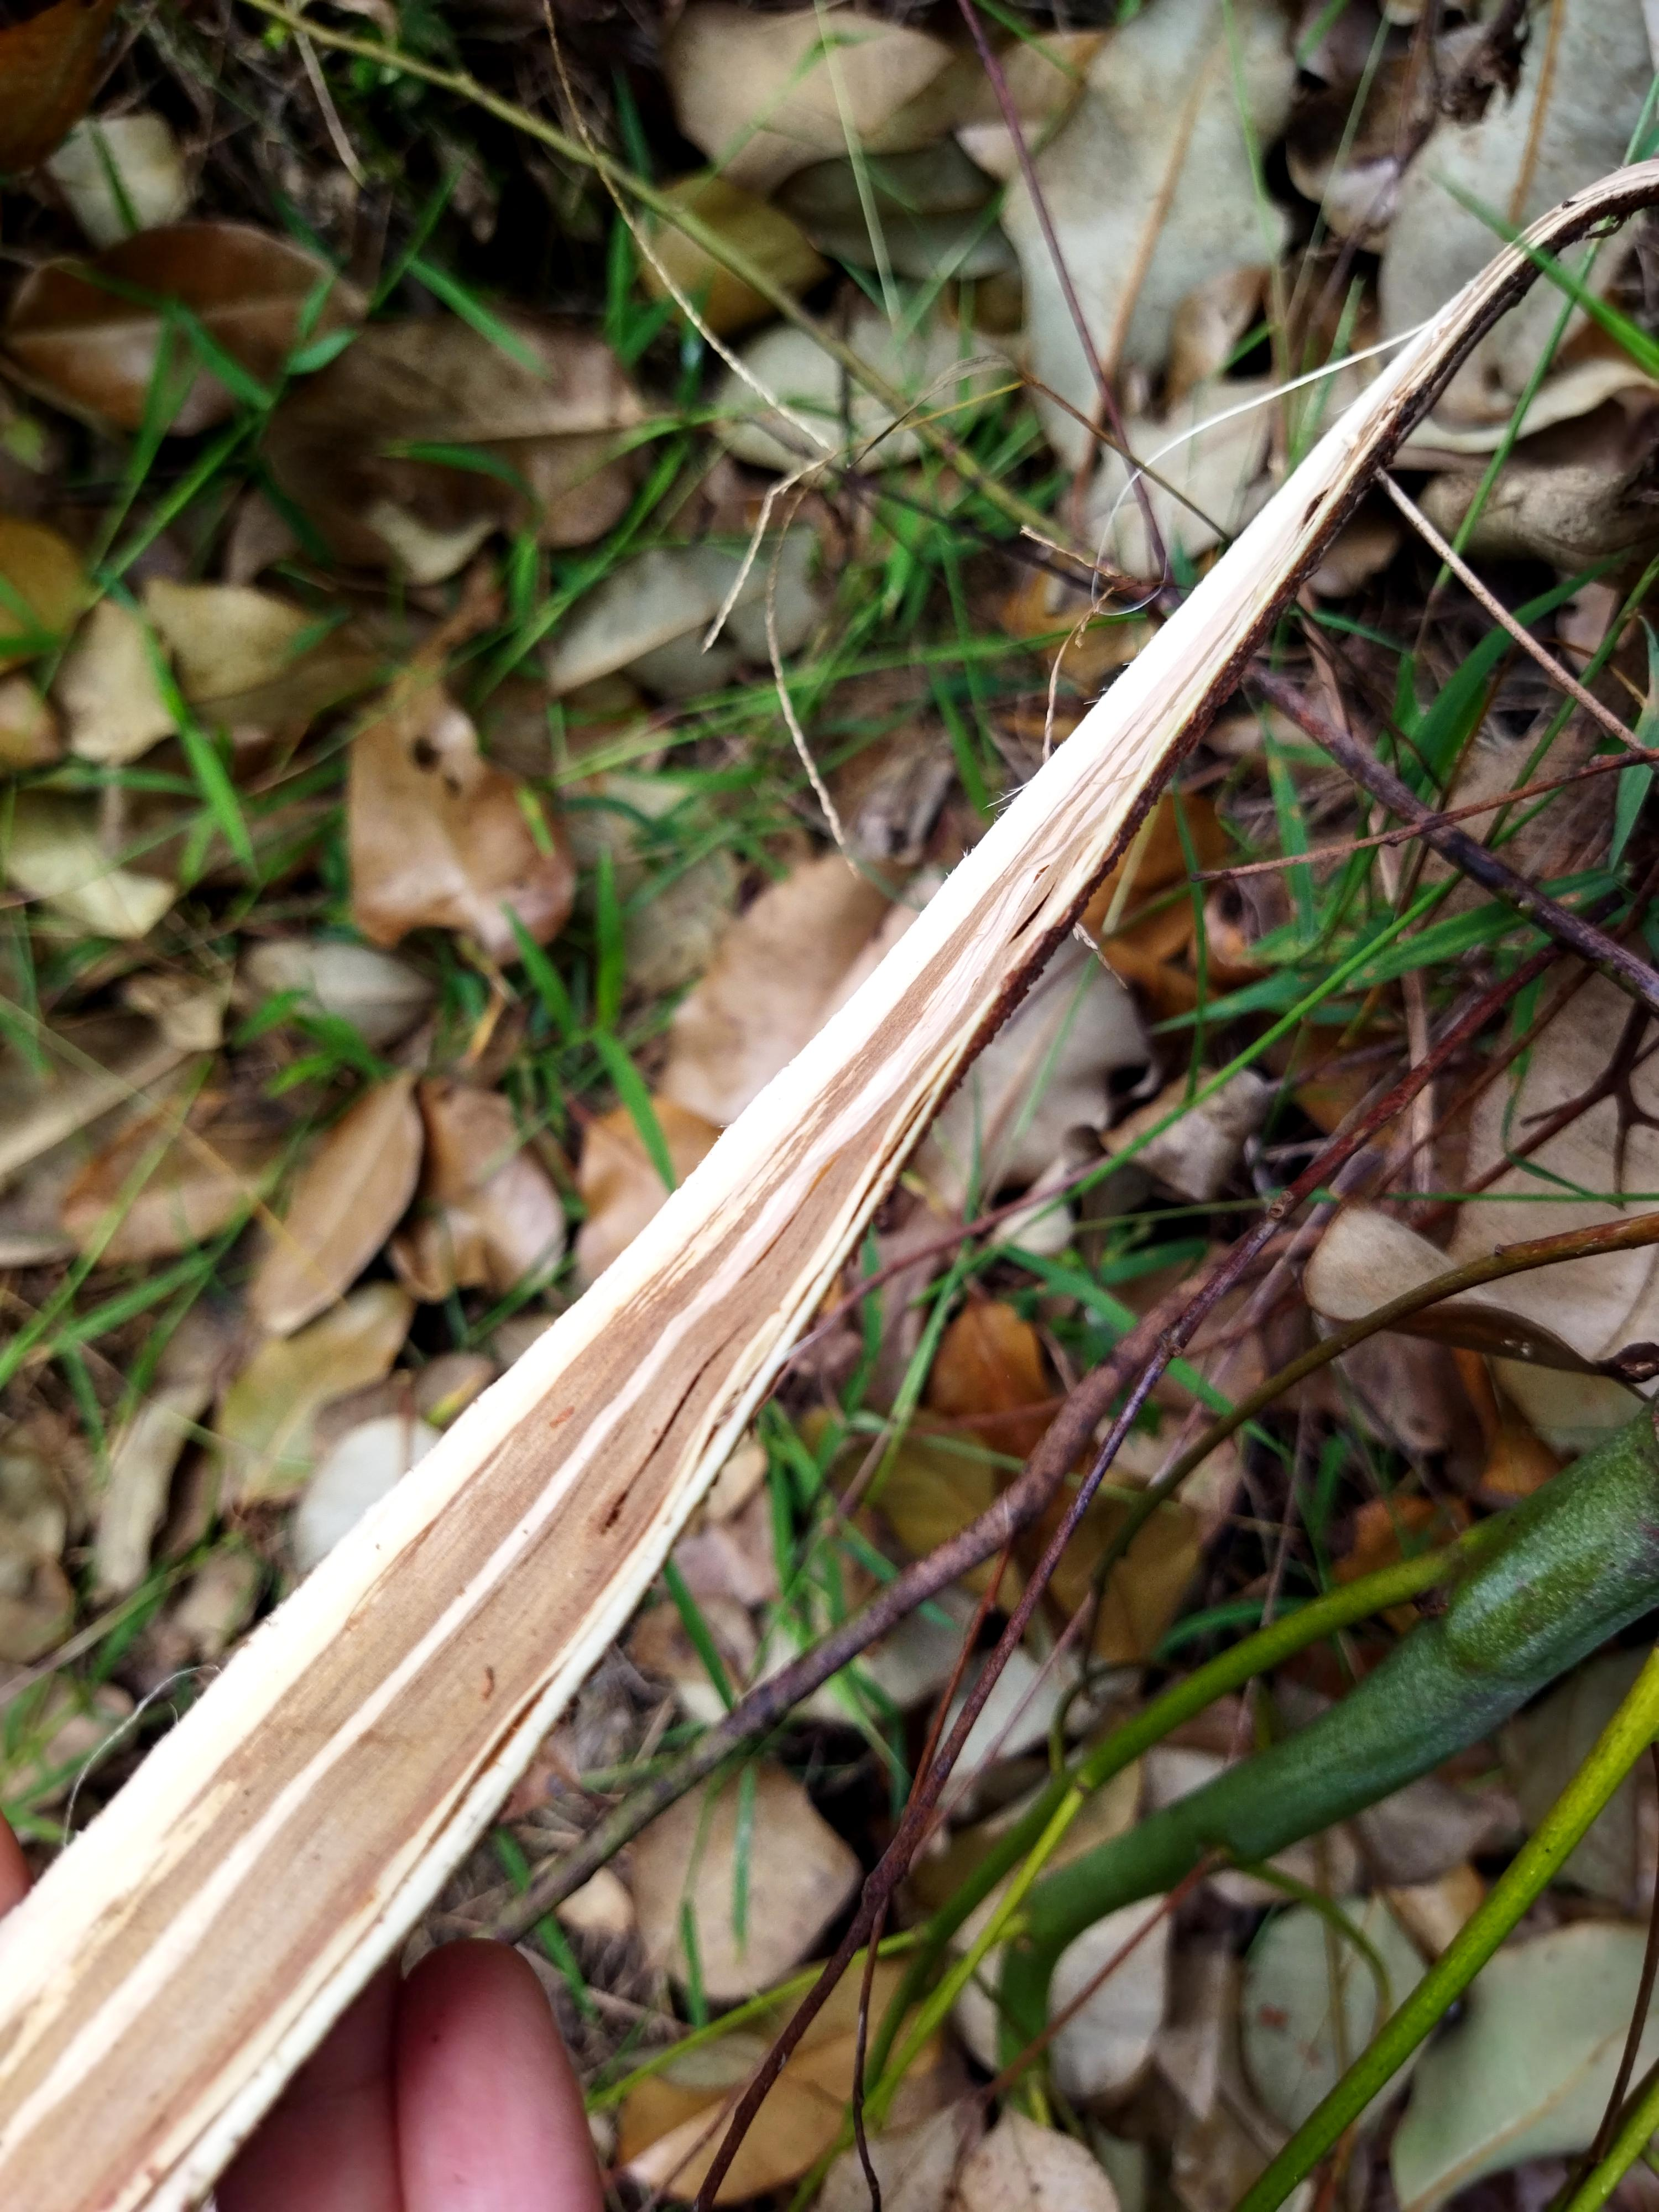Ralstonia: (206, 786, 1058, 1996), (0, 1959, 183, 2212)
